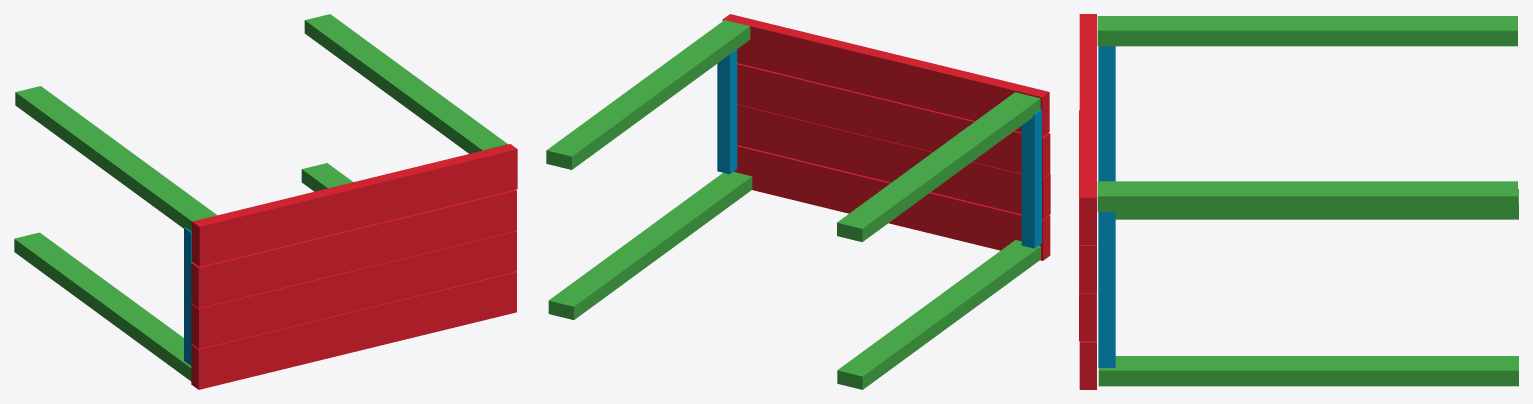
The model's file is tinker.obj.
The picture shows the model from 3 angles, left to right: view 1: azimuth 30°, elevation 25°; view 2: azimuth 150°, elevation 25°; view 3: azimuth 270°, elevation 25°; orthographic projection. The views are drawn at different scales.
Parts seen in each view (by area): view 1: group_0_15277357, group_0_4634441, group_0_40919; view 2: group_0_15277357, group_0_4634441, group_0_40919; view 3: group_0_4634441, group_0_15277357, group_0_40919.
Boxes of the visible parts, left/top/right/bottom form: group_0_15277357: left=191, top=144, right=517, bottom=389; group_0_4634441: left=14, top=14, right=507, bottom=381; group_0_40919: left=184, top=227, right=192, bottom=365; group_0_15277357: left=722, top=14, right=1050, bottom=260; group_0_4634441: left=546, top=20, right=1040, bottom=389; group_0_40919: left=717, top=49, right=1041, bottom=248; group_0_4634441: left=1097, top=16, right=1518, bottom=386; group_0_15277357: left=1079, top=14, right=1096, bottom=389; group_0_40919: left=1098, top=46, right=1115, bottom=367.
Bounding box in the file's own units: 301 × 147 × 304.
